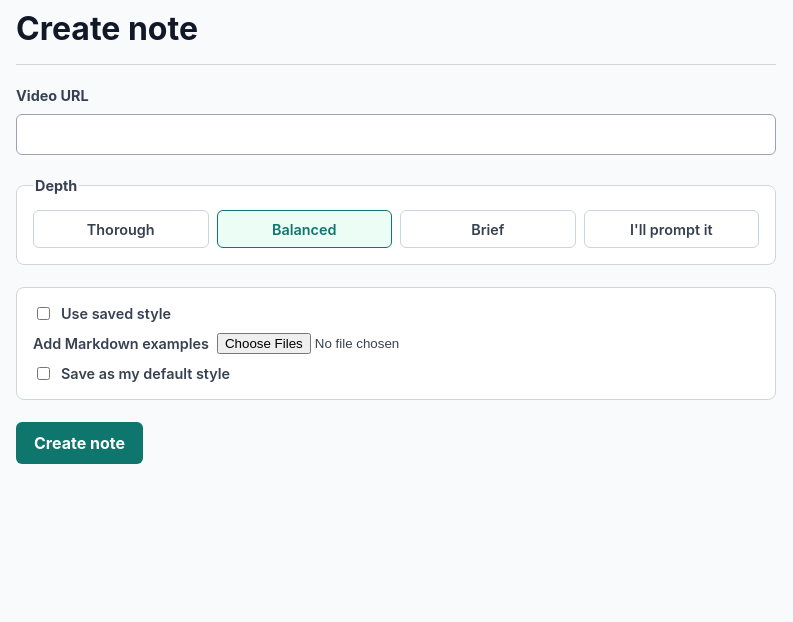
it: submit › reveals the custom prompt field for custom depth
Expected: the field labelled "Custom prompt" is not shown
Click the radio button labelled "I'll prompt it".
click(671, 229)  # box [584,210,759,248]
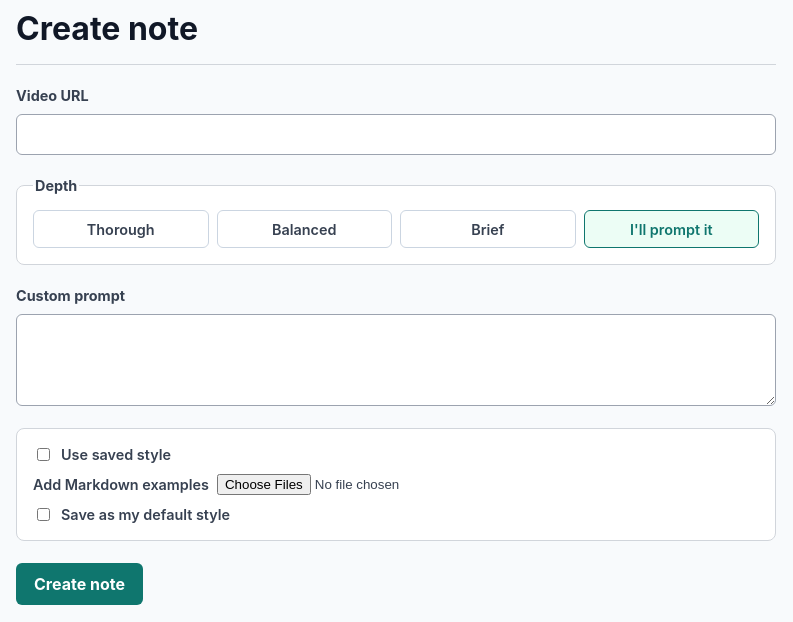
Now the text box labelled "Custom prompt" is shown, box [16,314,776,406]
